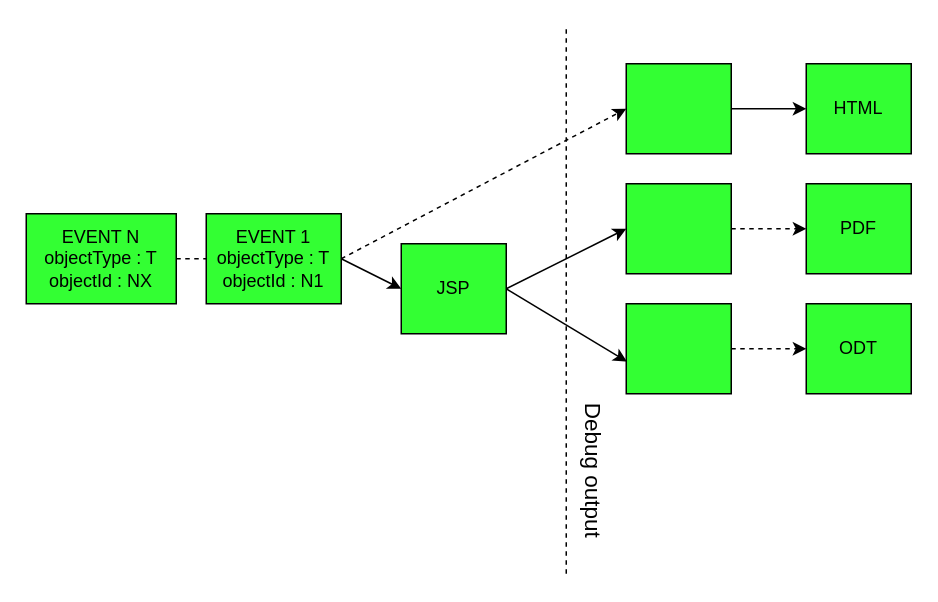
The diagram is 938 pixels wide and 602 high, and some of its shapes have lost their labels. The box of each missing label's shape, as (x1, y1, x2, y2) in pixels:
JSP (jspHtml): (625, 62, 731, 154)
ODT (odtForm): (625, 302, 731, 394)
PDF (pdfForm): (625, 182, 731, 274)
